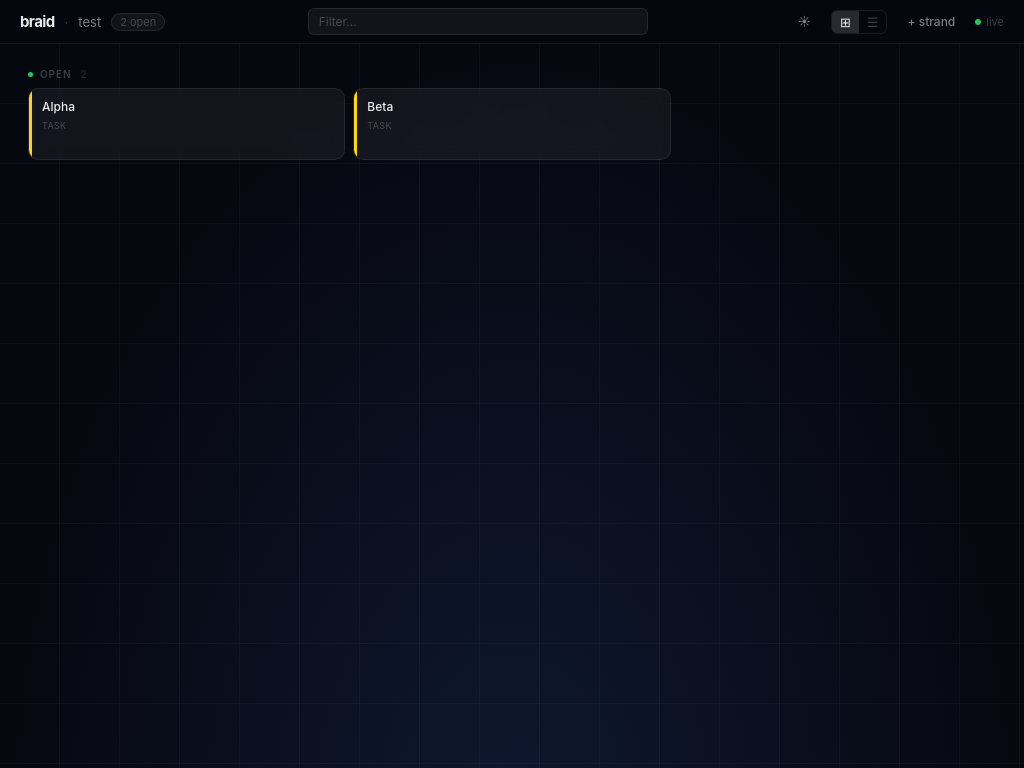
Test: ConnectedApp list-view selection › clears the selection and shows the empty state when nothing matches
The image size is (1024, 768).
Click the button titled "List view" at coordinates (873, 22), box left=859, top=10, right=886, bottom=32
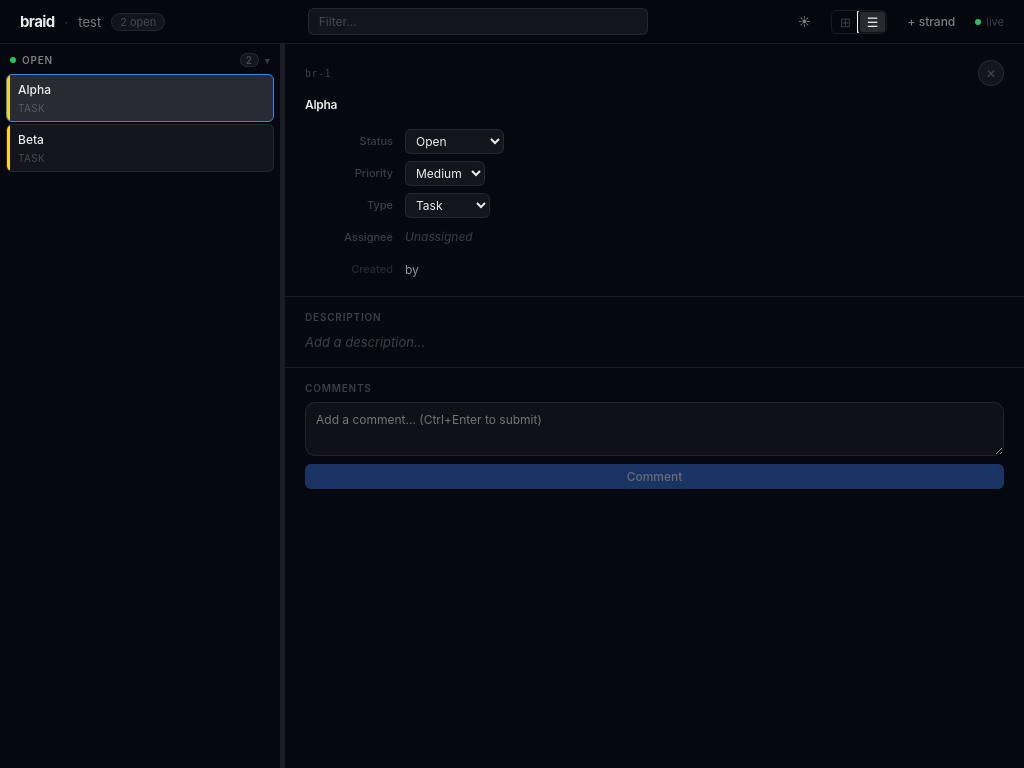
Type "no-such-strand" into the search field named "Filter strands" at coordinates (478, 22), box left=308, top=8, right=648, bottom=35
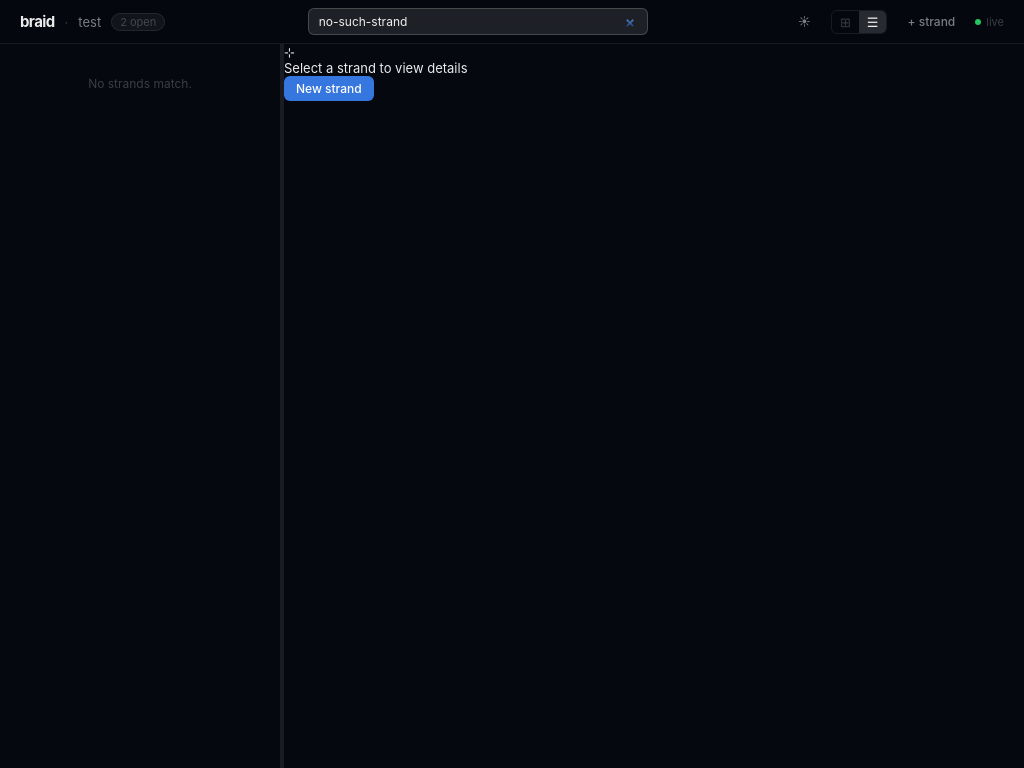
Check: the text "Select a strand to view details" is shown, box left=284, top=60, right=468, bottom=76
